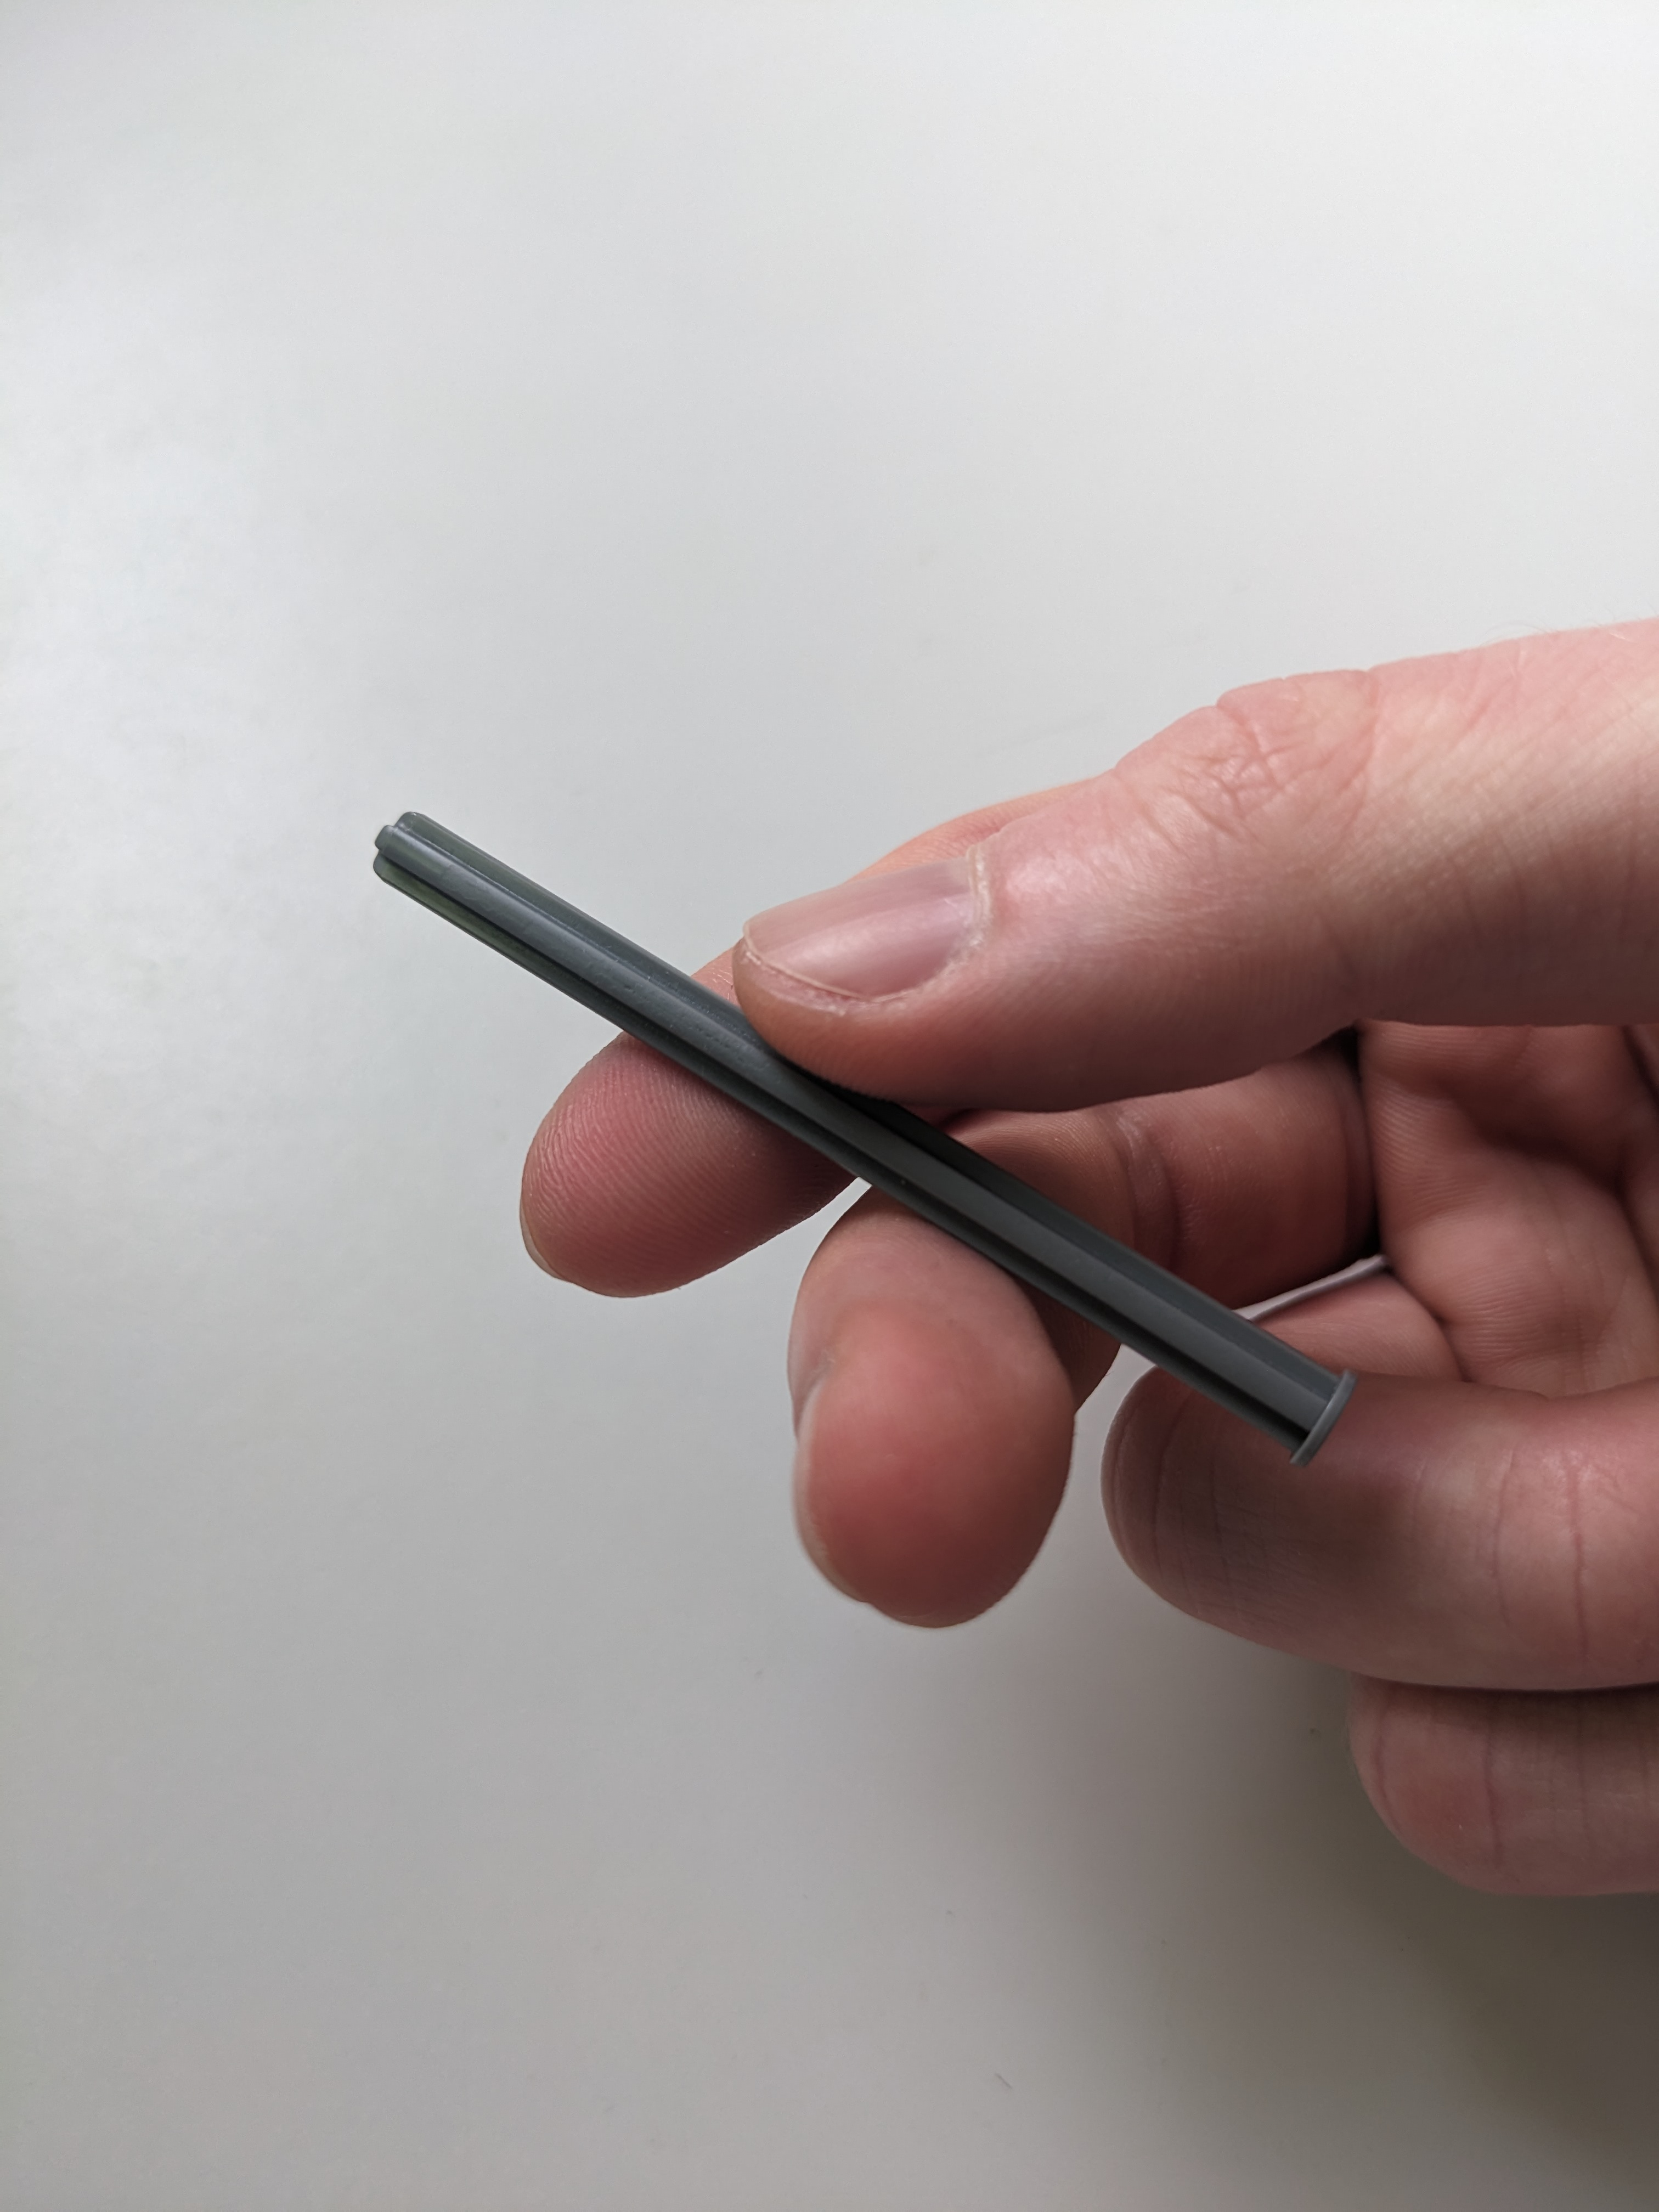Grau_lang: (349, 782, 1377, 1474)
